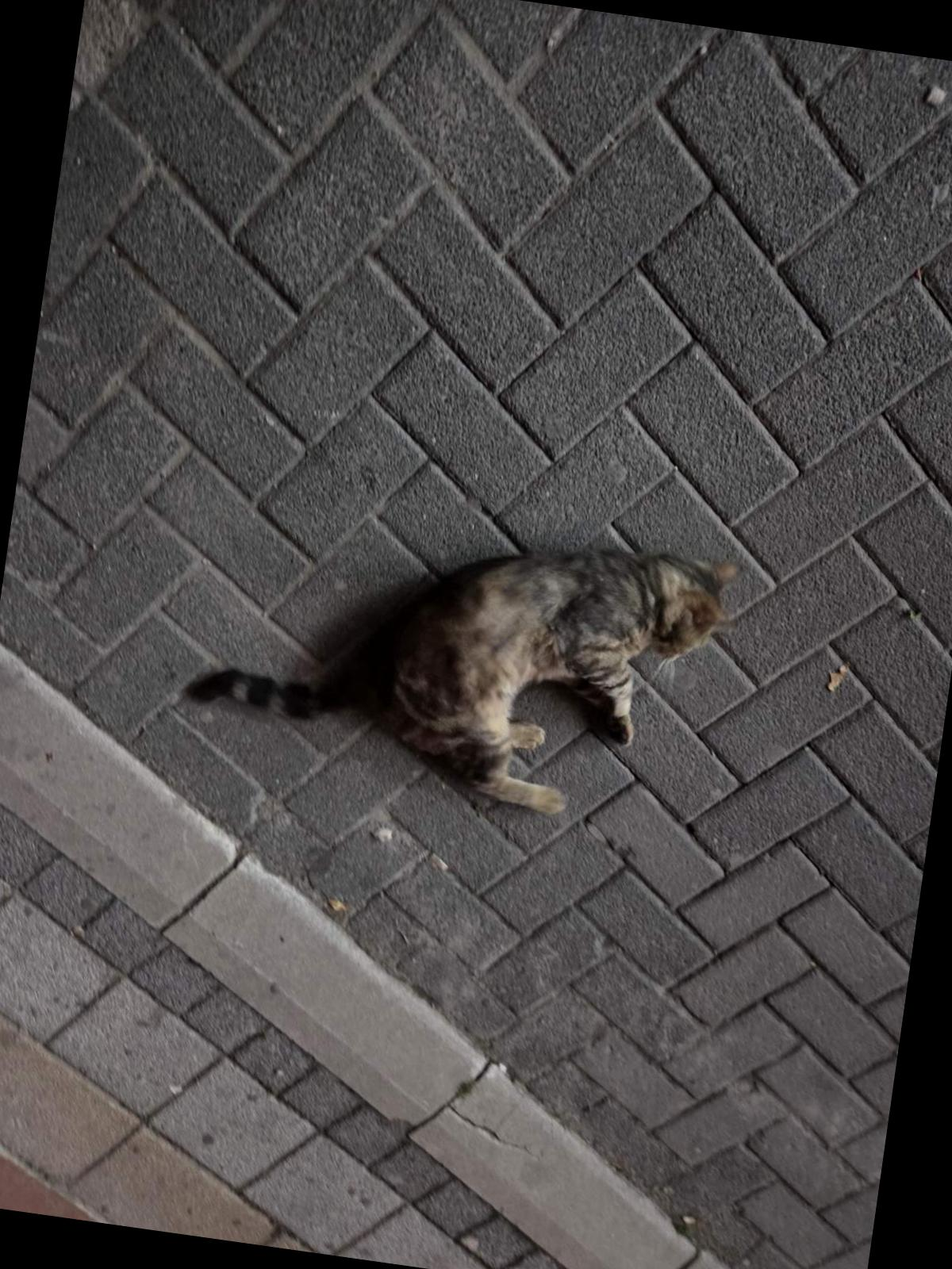macka: (173, 481, 747, 839)
